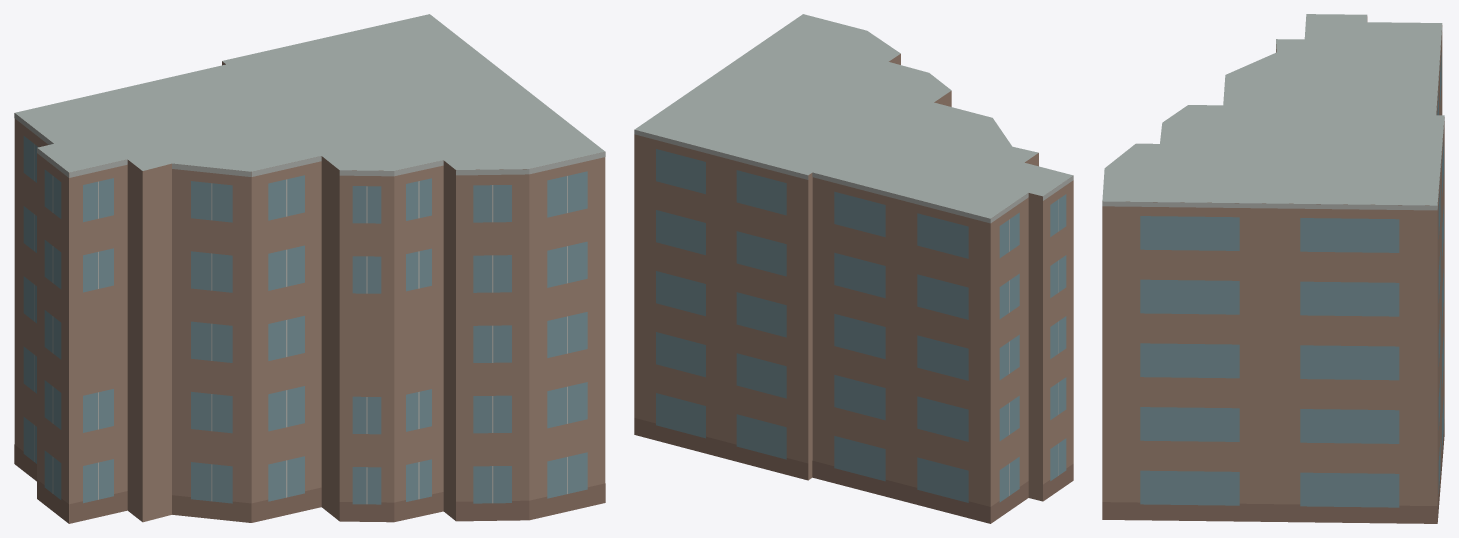
The model's file is survey-upis-32598096.glb.
3 views of the same model, side by side, from view 1: azimuth 30°, elevation 25°; view 2: azimuth 150°, elevation 25°; view 3: azimuth 270°, elevation 25° (orthographic). The views are drawn at different scales.
Visible parts, largest first — view 1: survey-upis-32598096.tmp; view 2: survey-upis-32598096.tmp; view 3: survey-upis-32598096.tmp.
Boxes of the visible parts, left/top/right/bottom form: survey-upis-32598096.tmp: left=14, top=14, right=605, bottom=523; survey-upis-32598096.tmp: left=634, top=14, right=1073, bottom=523; survey-upis-32598096.tmp: left=1102, top=14, right=1444, bottom=523.
Bounding box in the file's own units: 20.53 × 15.9 × 15.5.
